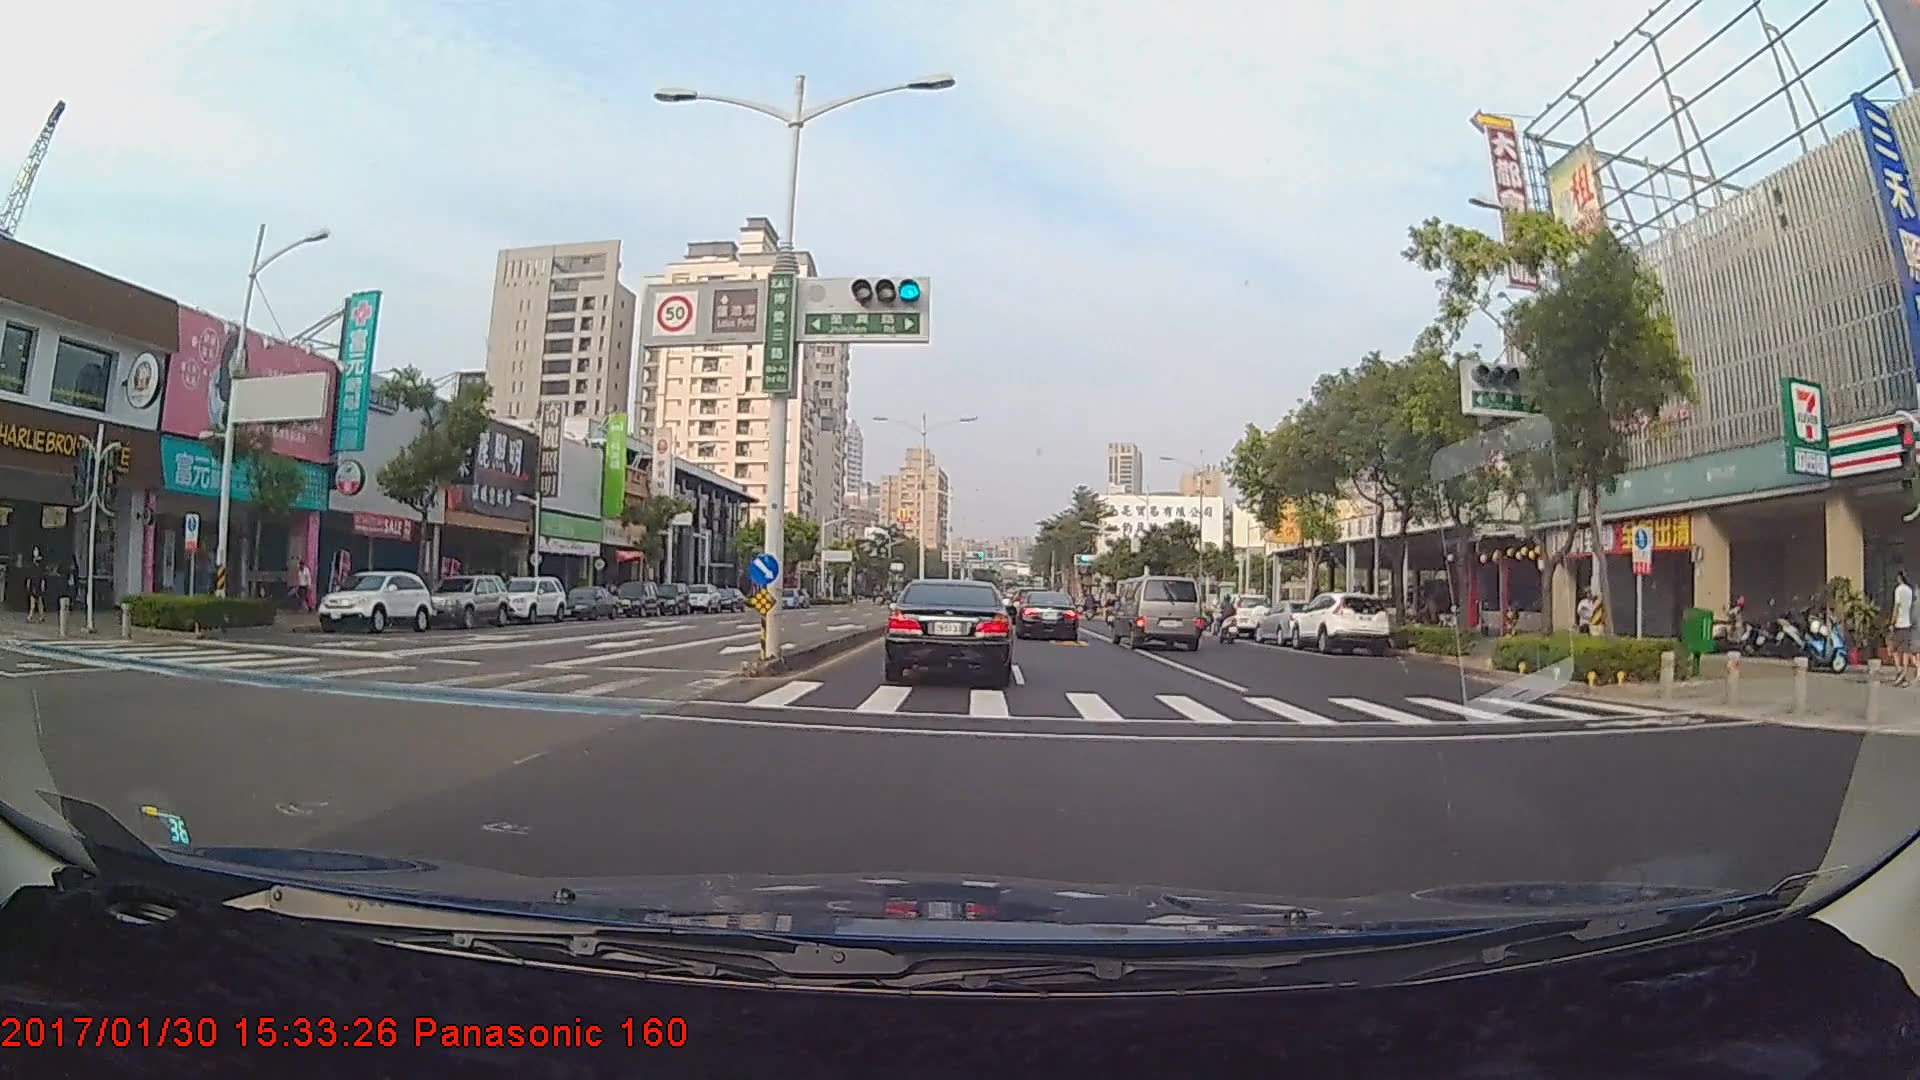pedestrian: (1889, 569, 1913, 679), (293, 558, 313, 615)
rider: (1211, 595, 1246, 646)
vehicle: (886, 577, 1012, 683), (313, 569, 432, 632), (1113, 575, 1202, 650), (1287, 588, 1393, 652), (415, 571, 508, 628), (493, 575, 567, 625), (1011, 590, 1079, 641), (1255, 598, 1329, 644), (557, 584, 619, 620), (611, 582, 660, 621), (650, 584, 690, 616)
